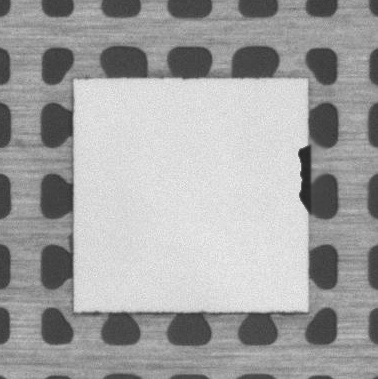DIE_BROKEN: (296, 141, 313, 214)
